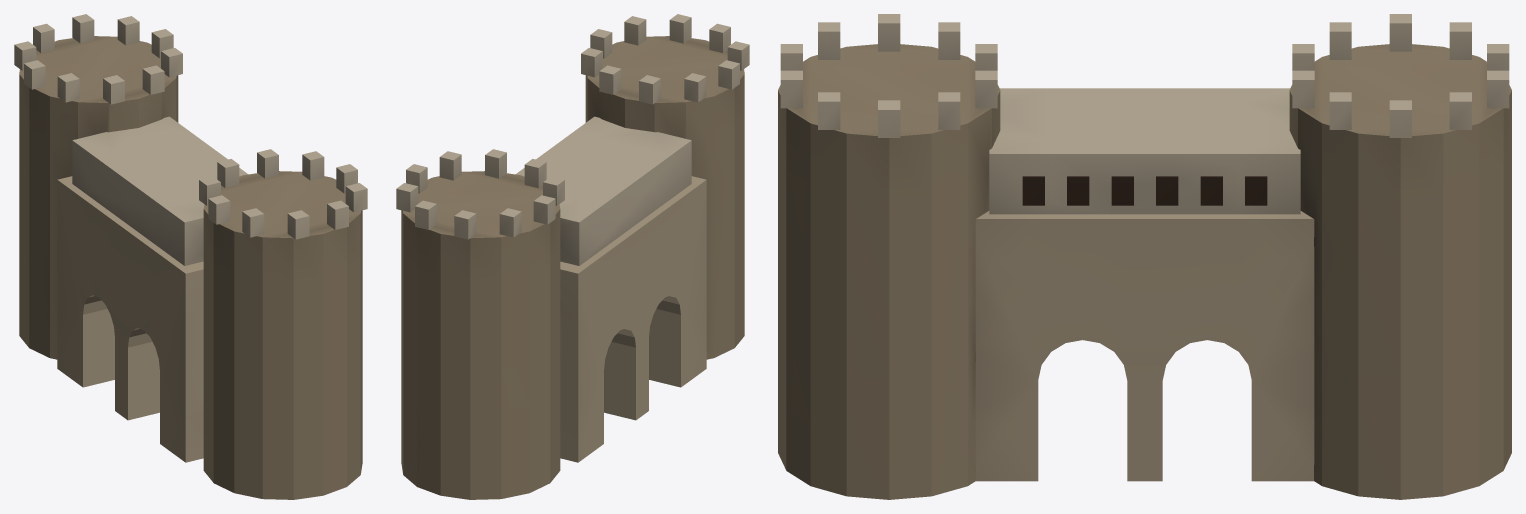
Rendered from gatehouse.glb.
3 views of the same model, side by side, from view 1: azimuth 30°, elevation 25°; view 2: azimuth 150°, elevation 25°; view 3: azimuth 270°, elevation 25° (orthographic). The views are drawn at different scales.
Parts seen in each view (by area): view 1: base; view 2: base; view 3: base.
Boxes of the visible parts, x1,y1,x2,y2 form: base: [14, 14, 367, 499]; base: [396, 14, 749, 499]; base: [778, 14, 1511, 499].
Size of the model in its own units: 10.2 by 19.4 by 33.
